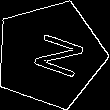N_W: (18, 27, 82, 82)
